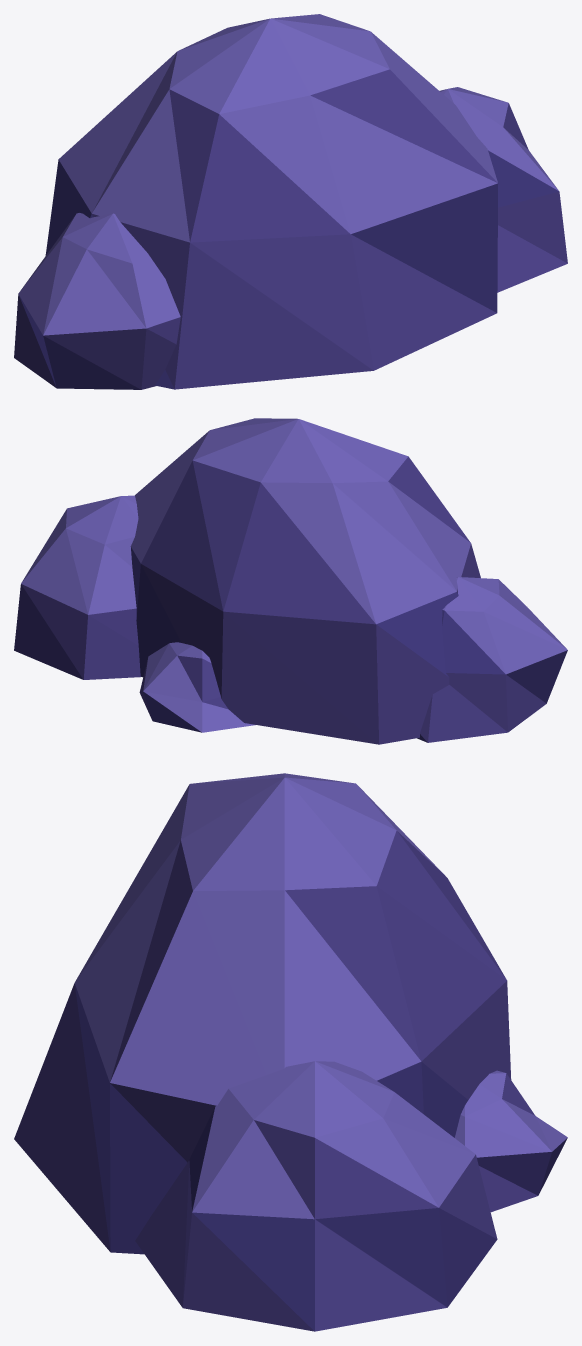
The model's file is Mine_FrontRock_Big.obj.
The picture shows the model from 3 angles, top to bottom: view 1: azimuth 30°, elevation 25°; view 2: azimuth 150°, elevation 25°; view 3: azimuth 270°, elevation 25°; orthographic projection. The views are drawn at different scales.
Visible parts, largest first — view 1: Mine_FrontRock_Big; view 2: Mine_FrontRock_Big; view 3: Mine_FrontRock_Big.
Boxes of the visible parts, <box> form: Mine_FrontRock_Big: <box>14,14,567,389</box>; Mine_FrontRock_Big: <box>14,418,567,744</box>; Mine_FrontRock_Big: <box>14,773,567,1331</box>.
Bounding box in the file's own units: 5.64 × 2.76 × 3.69.
